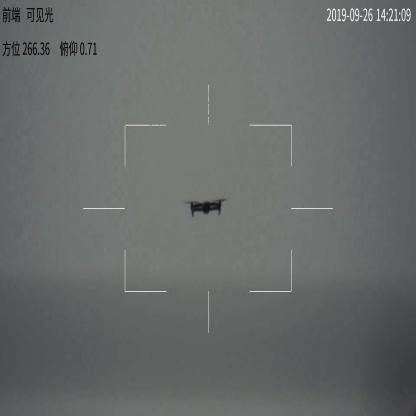uav: (182, 195, 229, 220)
